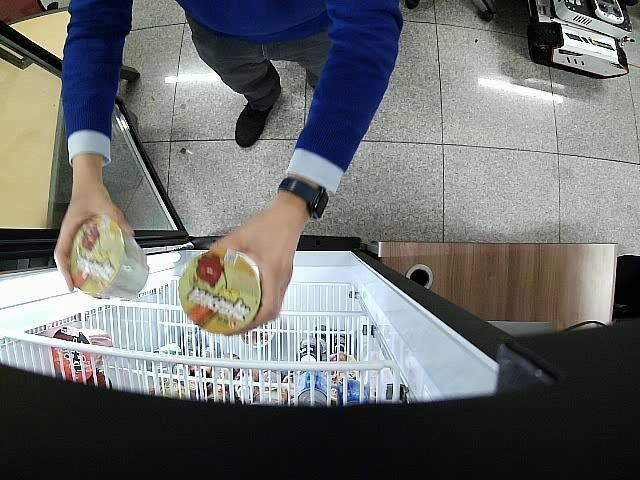04_chapagetti_S: (178, 248, 262, 333), (69, 214, 148, 300)
